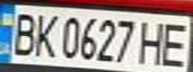0: (57, 12, 81, 61)
2: (97, 15, 118, 63)
6: (78, 14, 100, 61)
7: (115, 16, 139, 64)
B: (6, 9, 39, 57)
E: (157, 19, 193, 67)
H: (136, 17, 172, 66)
K: (30, 10, 60, 58)
